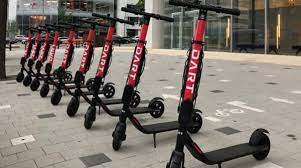kick_board: (167, 1, 269, 167)
kick_handler: (167, 2, 240, 19), (123, 9, 175, 25), (93, 14, 134, 27), (76, 18, 109, 29)
kick_neck: (177, 22, 205, 136)
kick_wheel: (253, 134, 270, 159), (112, 125, 126, 149), (84, 106, 96, 129), (67, 97, 79, 118), (150, 101, 164, 117), (192, 114, 203, 134), (102, 85, 115, 97), (40, 83, 50, 98), (52, 90, 62, 104), (131, 93, 141, 107), (15, 72, 25, 83), (30, 78, 39, 90), (86, 79, 94, 90), (67, 73, 73, 81)
